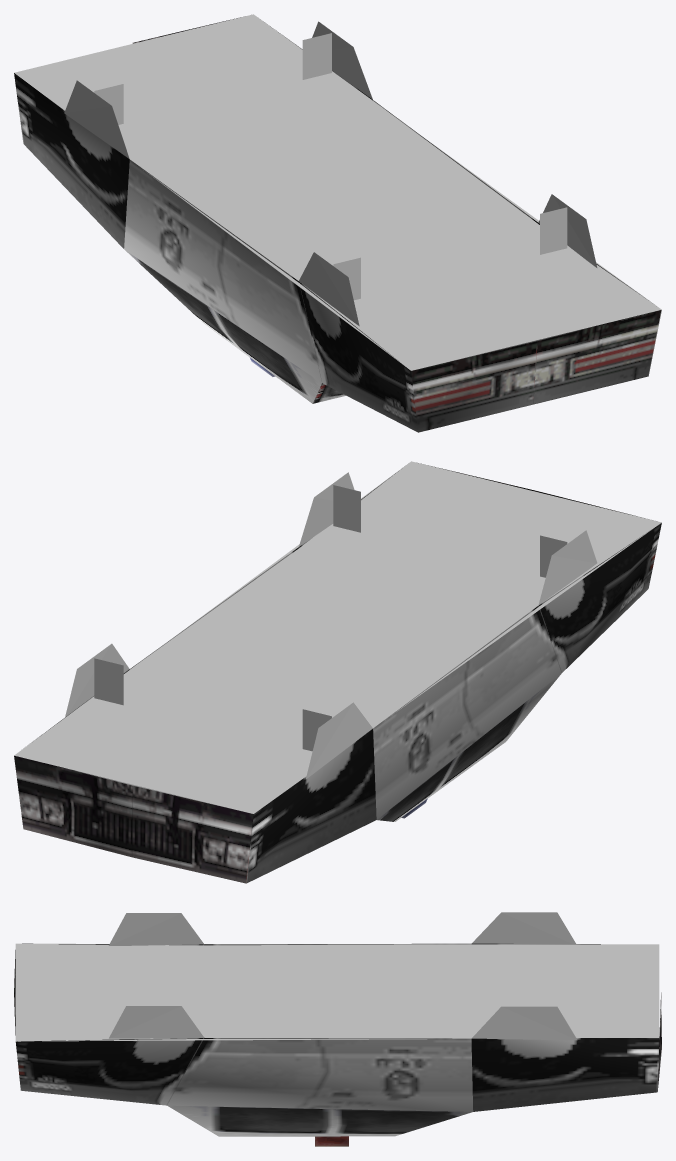
File: VEGAS_model0_low.obj
3 views of the same model, one above another, from view 1: azimuth 30°, elevation 25°; view 2: azimuth 150°, elevation 25°; view 3: azimuth 270°, elevation 25° (orthographic). The views are drawn at different scales.
Visible parts, largest first — view 1: VEGAS_model0_low; view 2: VEGAS_model0_low; view 3: VEGAS_model0_low.
Part boxes in pixels (<box>): VEGAS_model0_low: <box>14,14,661,432</box>; VEGAS_model0_low: <box>14,461,661,883</box>; VEGAS_model0_low: <box>14,912,661,1146</box>.
Bounding box in the file's own units: 274 × 204 × 762.
